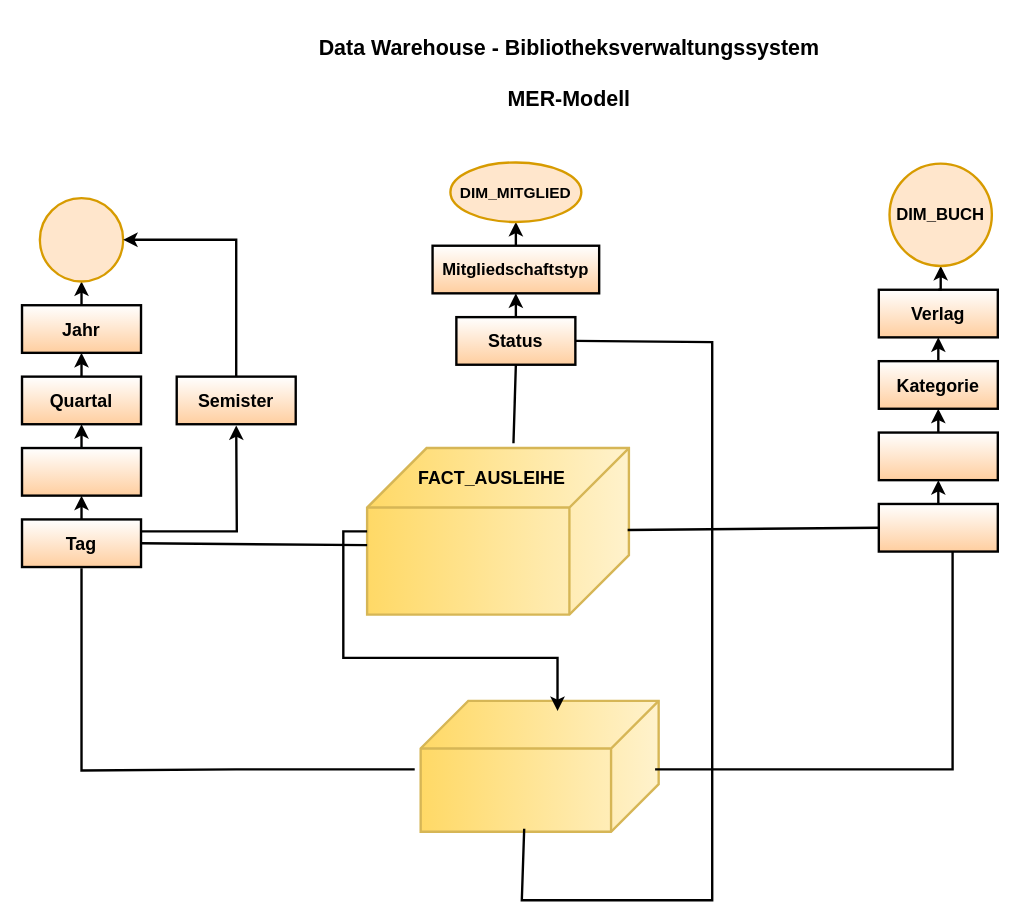
This 1019x922 diagram has some shape labels left out. The shapes that lost their labels are listed below. From the top down, each one's box as (x1, y1, x2, y2) in pixels, then its label:
(38, 196, 124, 282): DIM_ZEIT
(20, 446, 142, 496): Monat
(877, 431, 998, 481): Autor
(877, 502, 998, 552): Titel
(419, 699, 659, 832): FACT_RESERVIERUNG
